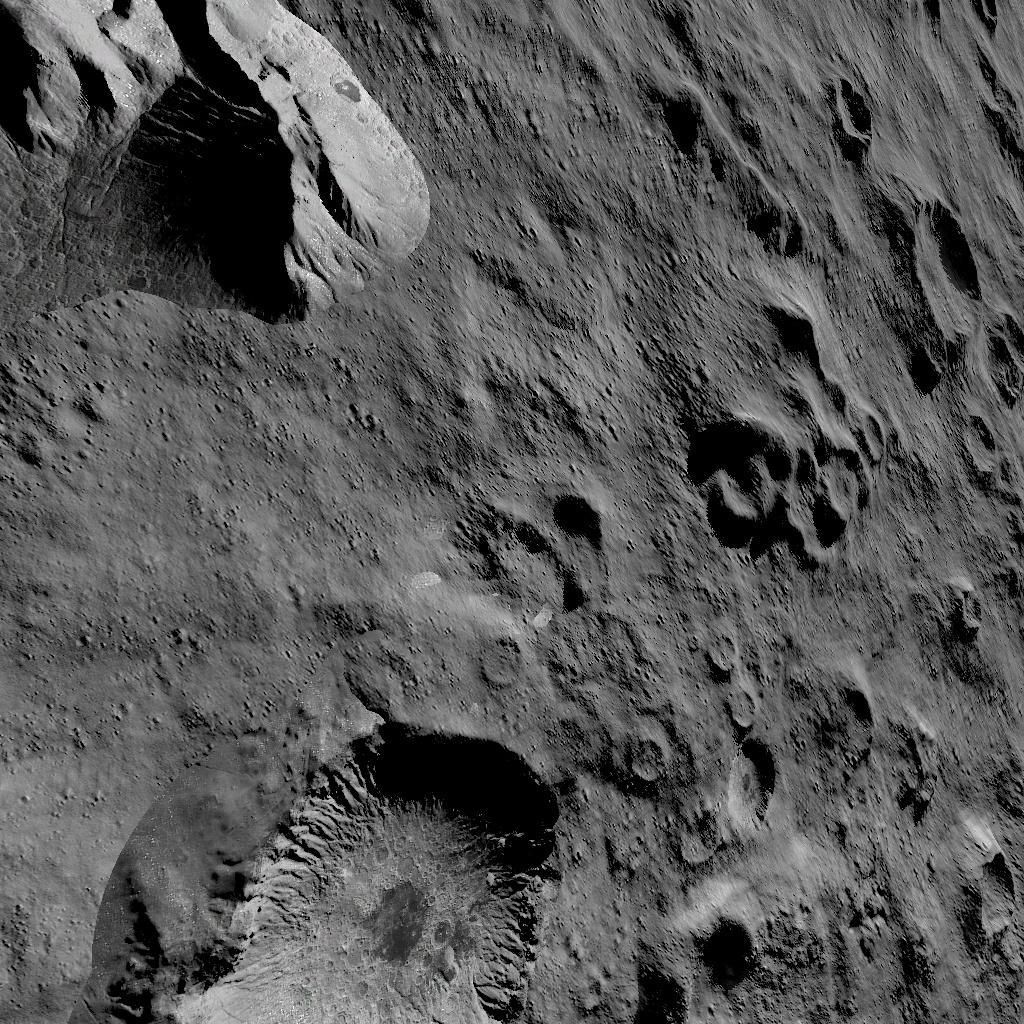Boulders: (0, 0, 440, 372)
Crater: (121, 706, 594, 1024), (690, 388, 902, 568), (611, 894, 791, 1024), (883, 195, 1013, 372), (475, 492, 631, 625), (707, 634, 805, 836), (823, 70, 898, 148), (963, 404, 1024, 494), (953, 576, 1015, 644), (483, 632, 543, 690), (633, 730, 685, 796)
Plan surface: (1, 384, 463, 692), (475, 0, 672, 475)
